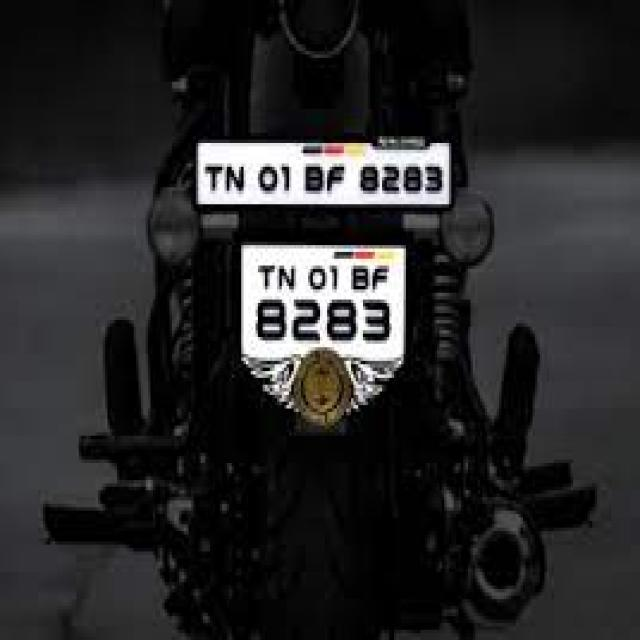license_plate: (199, 145, 450, 206), (238, 254, 402, 347)
